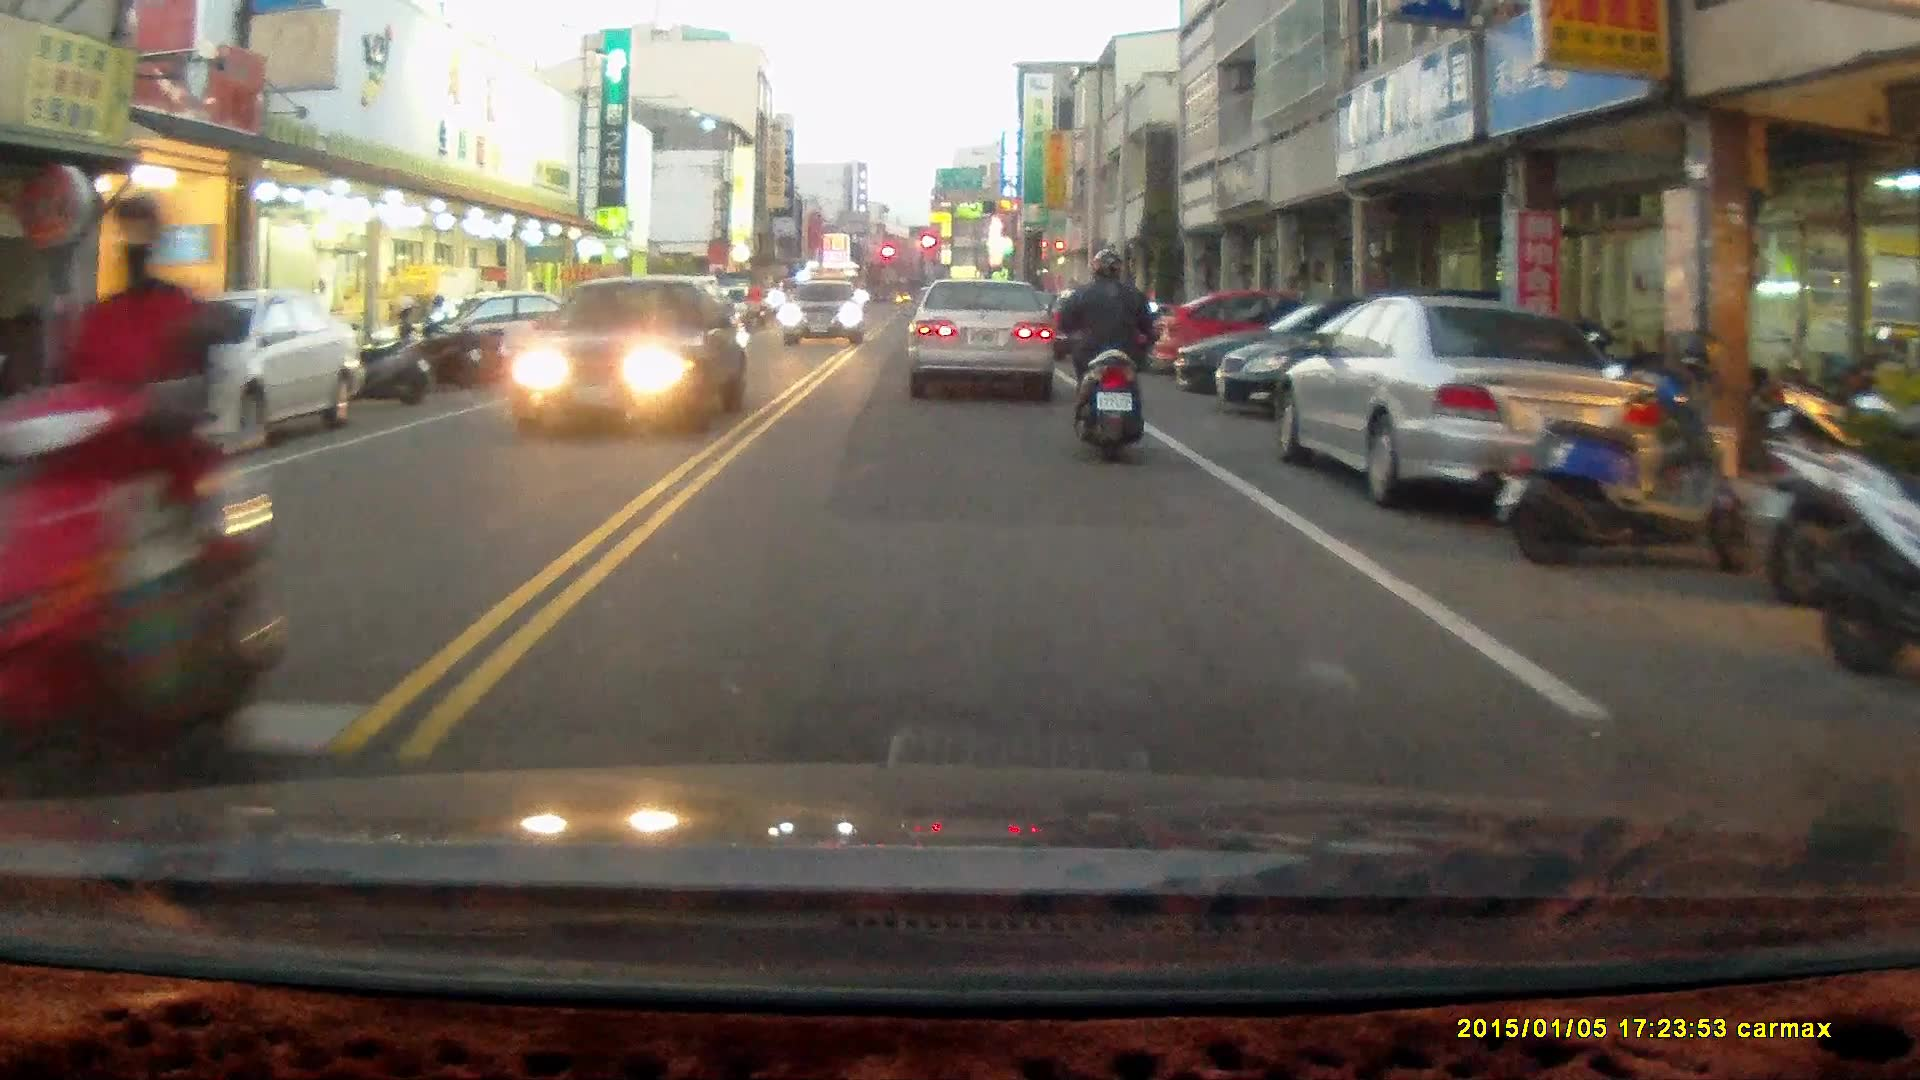rider: (12, 170, 280, 819), (1052, 248, 1161, 463), (741, 276, 764, 334)
vehicle: (1273, 297, 1661, 516), (63, 288, 365, 459), (1214, 297, 1521, 433), (512, 274, 748, 444), (1170, 308, 1485, 399), (1155, 296, 1391, 387), (905, 280, 1059, 401), (416, 293, 593, 383), (781, 289, 867, 356)
